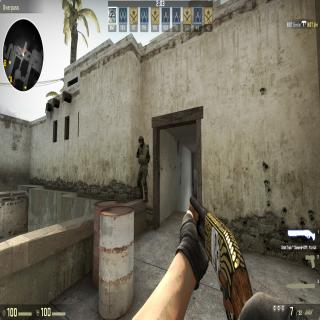CT-Body: (136, 135, 150, 202)
CT-Head: (138, 136, 144, 148)
